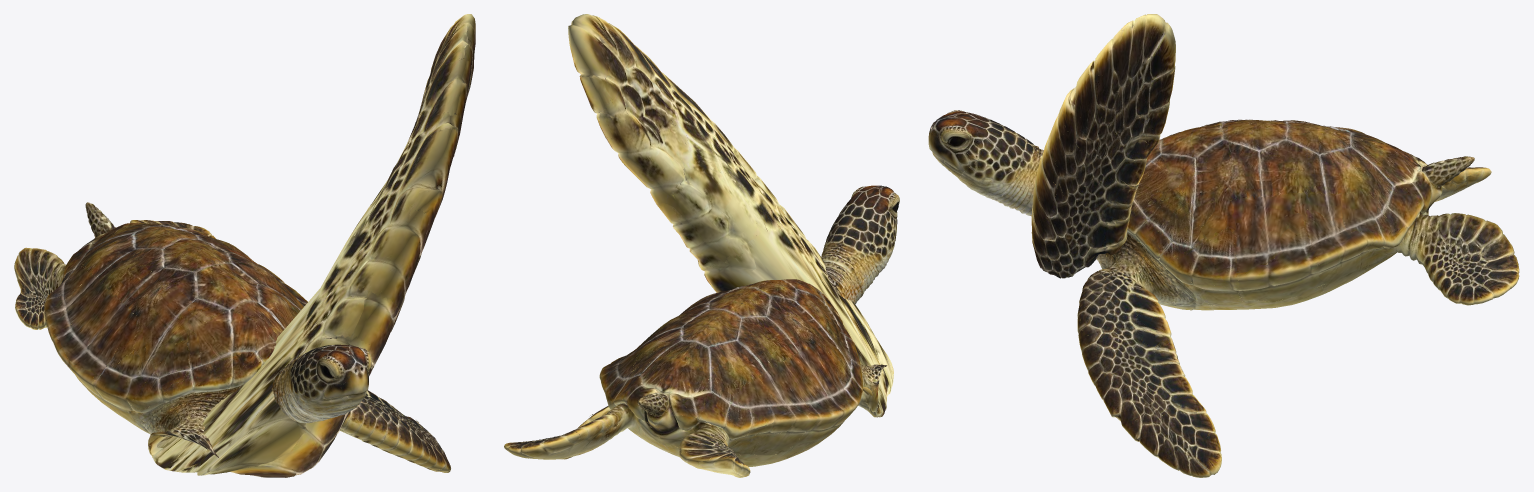
Rendered from turtle-living.glb.
The picture shows the model from 3 angles, left to right: view 1: azimuth 30°, elevation 25°; view 2: azimuth 150°, elevation 25°; view 3: azimuth 270°, elevation 25°; orthographic projection. The views are drawn at different scales.
Visible parts, largest first — view 1: sea-turtle; view 2: sea-turtle; view 3: sea-turtle.
Part boxes in pixels (x1=…): sea-turtle: x1=14, y1=14, x2=475, y2=477; sea-turtle: x1=504, y1=14, x2=899, y2=477; sea-turtle: x1=928, y1=14, x2=1519, y2=477.
Bounding box in the file's own units: 0.6716 × 0.8474 × 0.9785.
1 material, 1 textured.
